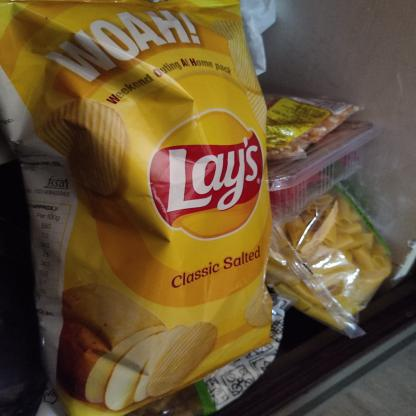classicsalted: (0, 0, 275, 415)
